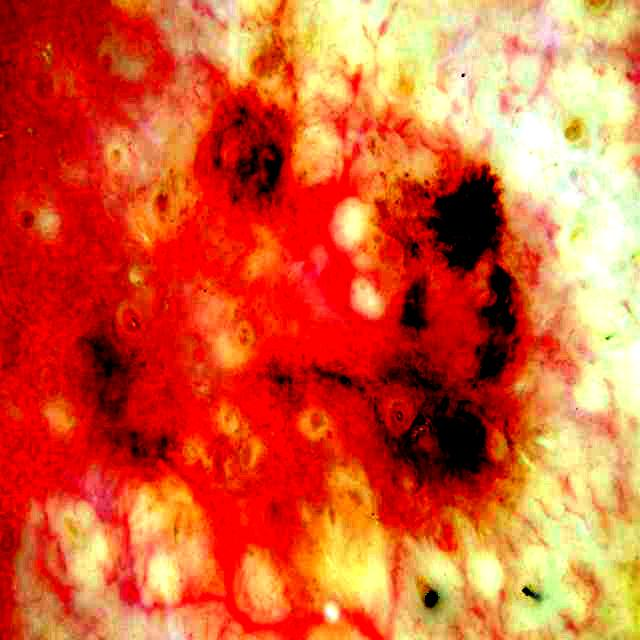AKIEC: (76, 92, 521, 543)
